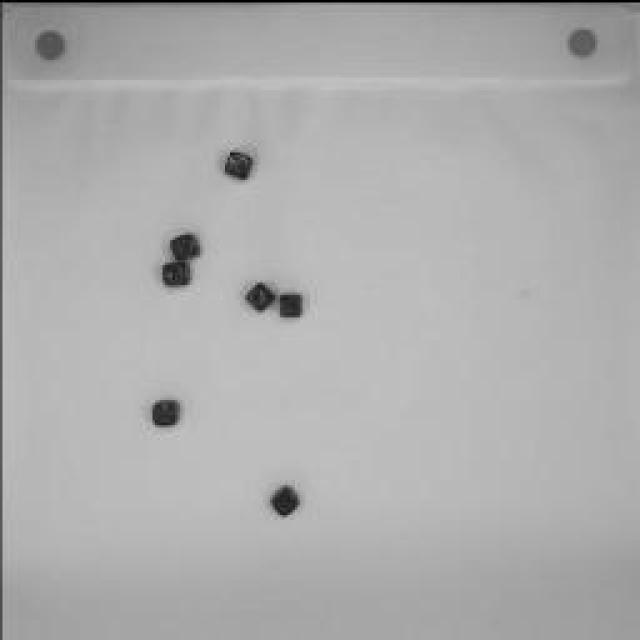dice_2: (218, 144, 260, 184), (239, 274, 279, 314)
dice_3: (152, 255, 198, 290), (145, 391, 185, 431)
dice_4: (274, 288, 306, 320)
dice_5: (264, 477, 306, 525)
dice_6: (165, 225, 205, 263)
